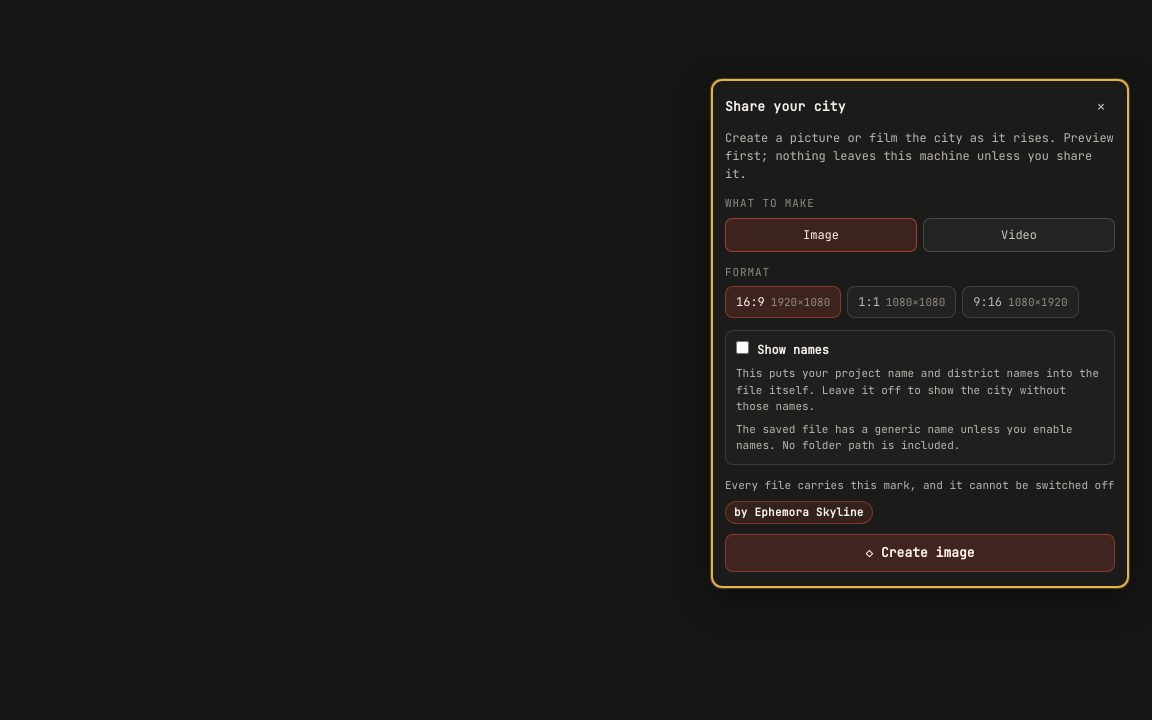
Test: the studio's quality row speaks the card's vocabulary › shows MP4 · H.264 in English and keeps the raw profile in the title
This screenshot has width=1152, height=720.
Click the button with class "share-media-button" showing "Video": [1019, 234] box x1=923 y1=218 x2=1115 y2=252
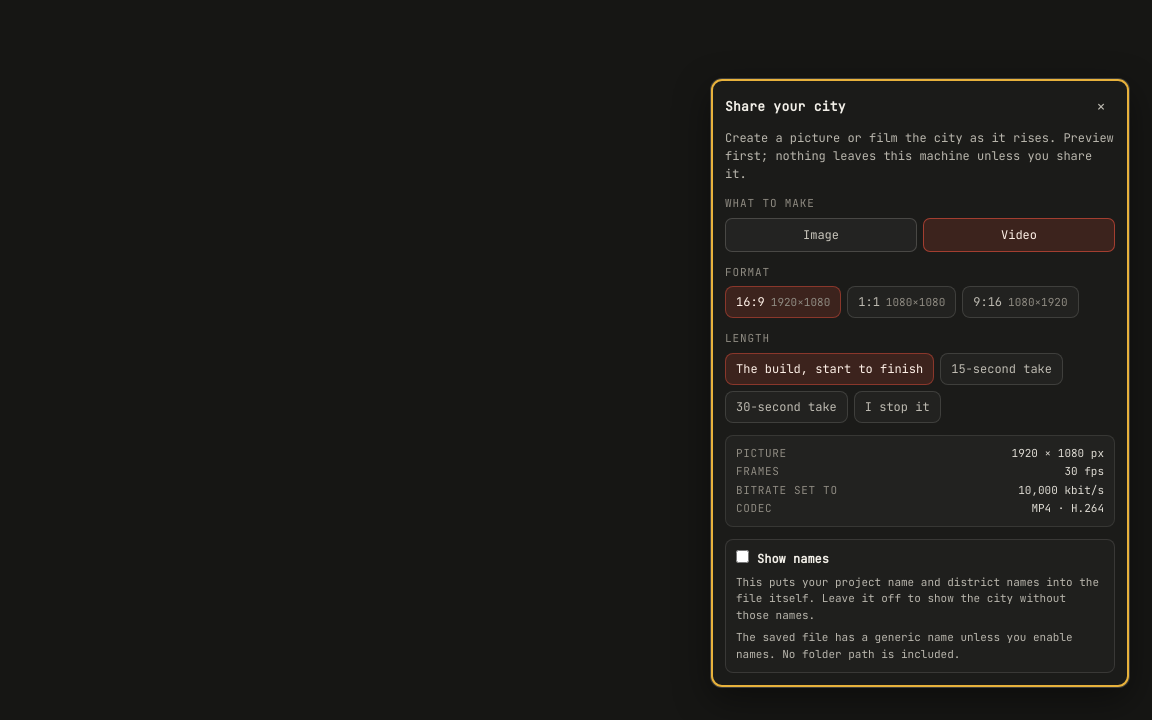
Expected: the text "MP4 · H.264" is shown, x1=1031 y1=501 x2=1104 y2=515
